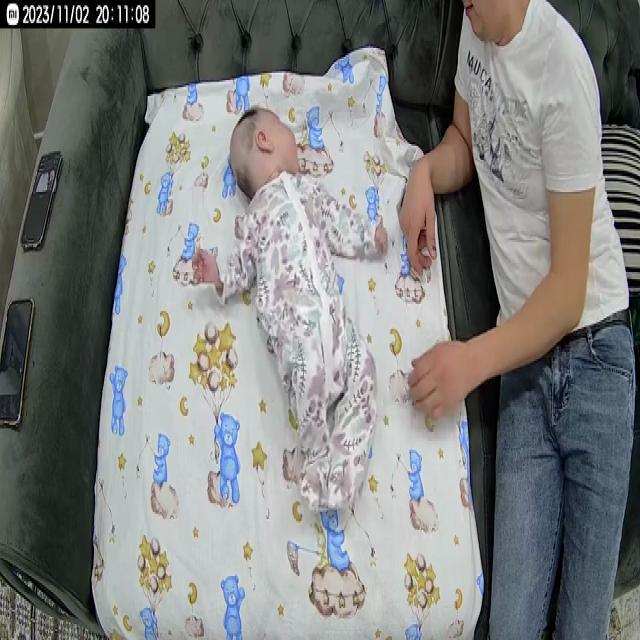baby: (188, 102, 390, 518)
